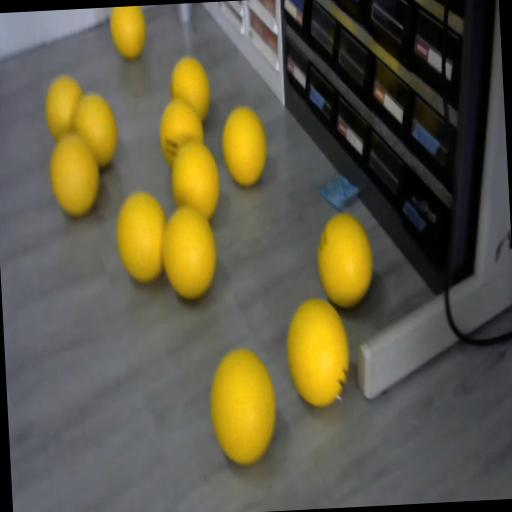FUEL: (208, 347, 278, 465), (284, 296, 352, 408), (315, 210, 376, 309), (158, 204, 219, 300), (113, 189, 169, 285), (48, 133, 102, 218), (168, 140, 222, 222), (220, 104, 268, 188), (42, 72, 88, 144), (168, 55, 212, 122), (108, 6, 148, 60)
